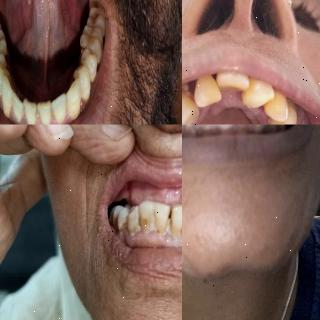Gum Swelling: (129, 232, 158, 244), (159, 235, 177, 247), (120, 230, 128, 241)
calculus: (241, 92, 256, 110), (182, 82, 192, 100), (265, 115, 278, 125)
maligned: (193, 78, 223, 114), (246, 75, 274, 109), (217, 67, 248, 97)
plaque: (129, 218, 143, 242), (161, 214, 174, 237), (217, 124, 233, 140), (147, 216, 157, 234), (186, 124, 202, 134), (252, 125, 266, 133)
stains: (169, 211, 182, 239), (68, 70, 84, 90), (31, 107, 47, 125), (155, 215, 167, 239), (118, 213, 128, 235), (76, 40, 88, 56), (140, 212, 150, 231), (112, 214, 120, 231)
